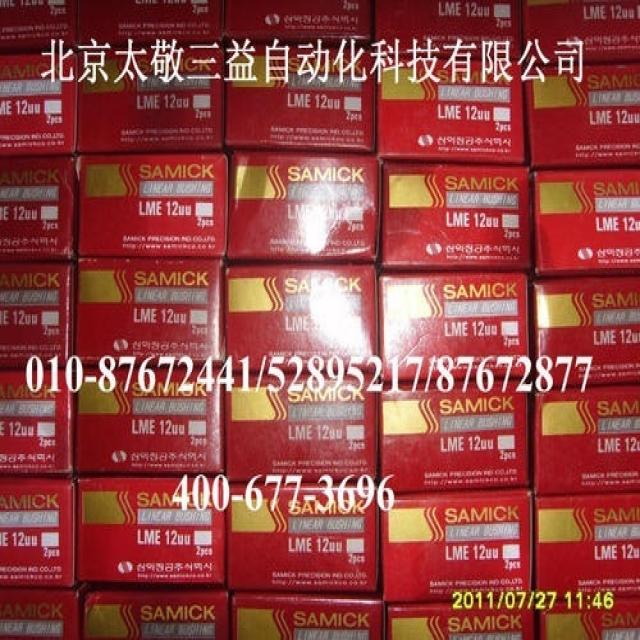box: (378, 484, 531, 605), (223, 258, 380, 373), (225, 479, 382, 591), (72, 255, 225, 369), (379, 374, 531, 488), (223, 370, 380, 480), (379, 157, 531, 270), (76, 475, 227, 588), (226, 149, 379, 259), (72, 366, 226, 475), (380, 269, 528, 381), (373, 51, 523, 160), (223, 44, 375, 151), (74, 47, 226, 153), (75, 151, 227, 256), (529, 379, 639, 495), (524, 60, 639, 168), (524, 492, 639, 599), (531, 273, 639, 384), (531, 166, 639, 273), (1, 474, 76, 590), (372, 1, 521, 58), (0, 255, 76, 366), (0, 365, 75, 476), (0, 151, 76, 259), (0, 50, 76, 154), (228, 589, 384, 638), (77, 1, 226, 50), (80, 589, 229, 638), (521, 1, 639, 61), (382, 595, 535, 638), (224, 2, 373, 44), (536, 597, 639, 638), (1, 587, 83, 638), (0, 1, 79, 49)
